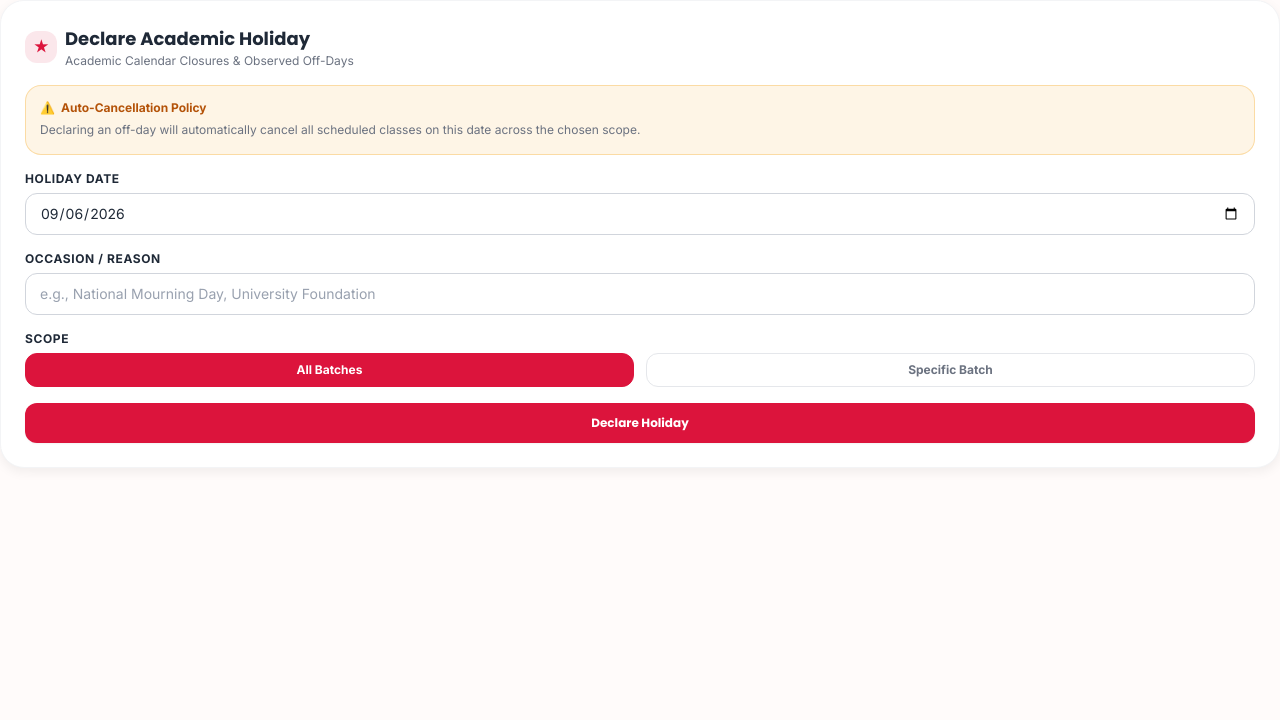
HolidayDeclarationForm Component › toggles scope selector and shows target batch dropdown
Click the button "Specific Batch".
click(950, 370)  # box 646,352 -> 1255,386
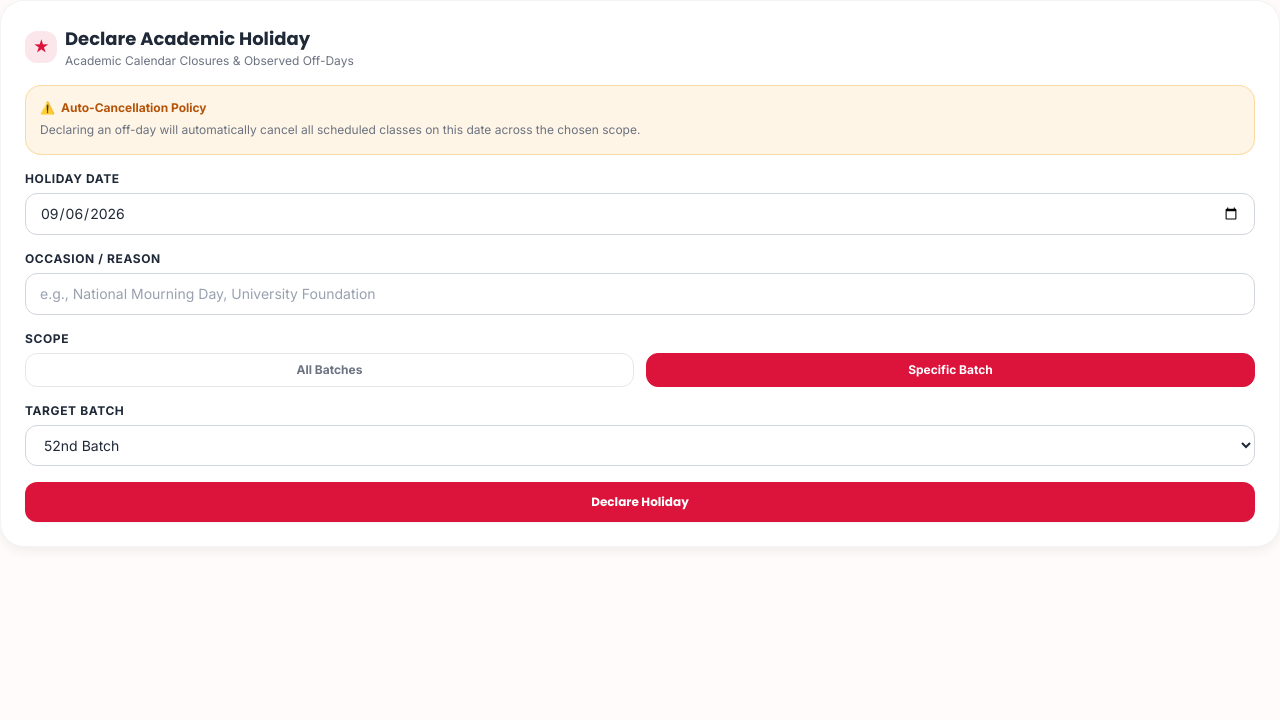
Now the dropdown labelled "Target Batch" is shown, box 25,424 -> 1255,466
